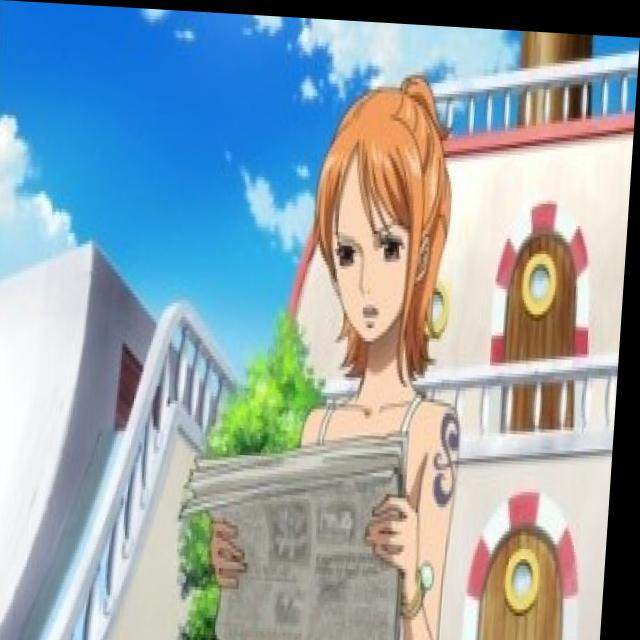Nami: (303, 54, 467, 353)
